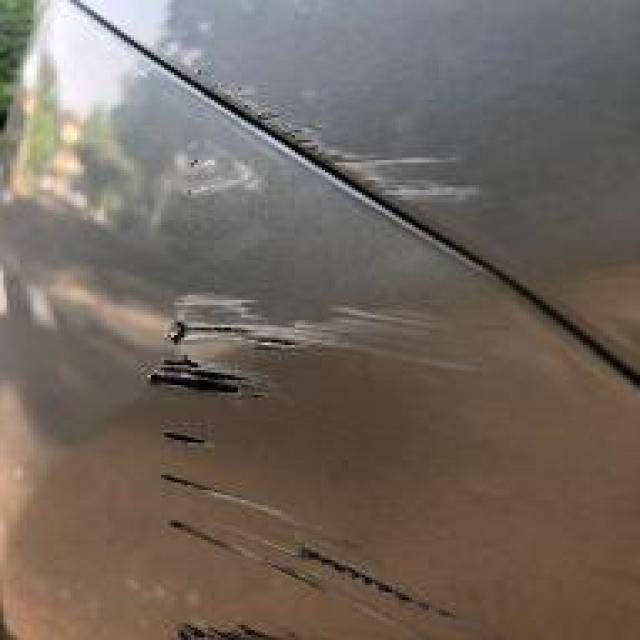Bumper: (0, 6, 522, 640)
